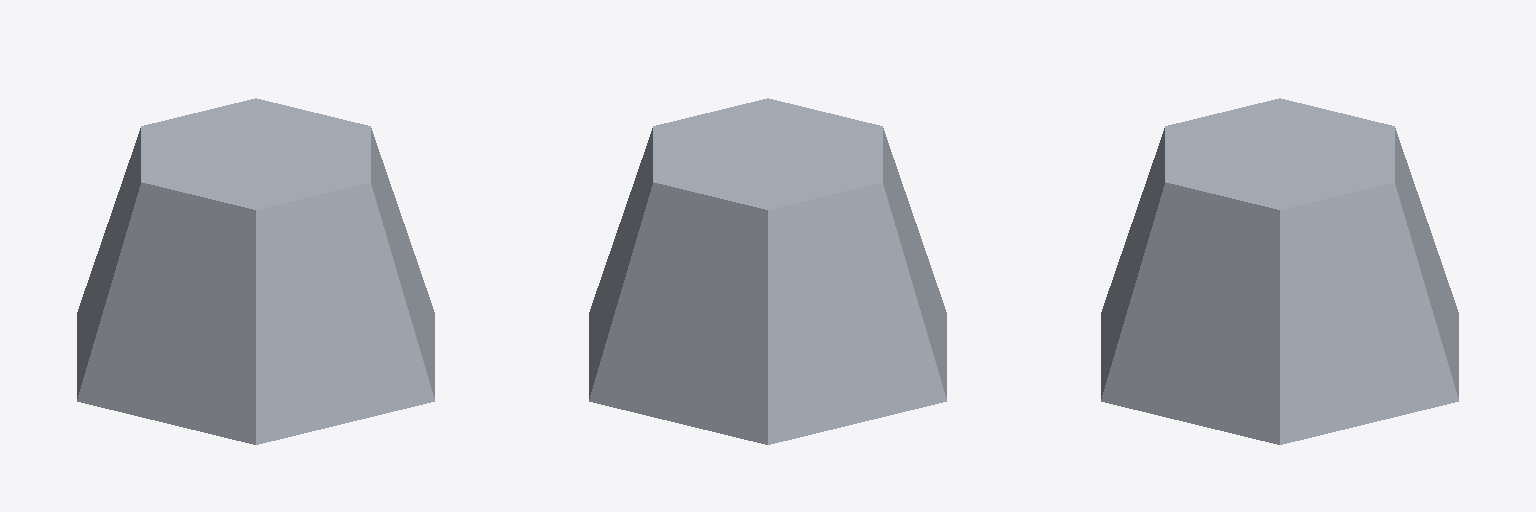
3 renders of one model, left to right at view 1: azimuth 30°, elevation 25°; view 2: azimuth 150°, elevation 25°; view 3: azimuth 270°, elevation 25°, orthographic.
Visible parts, largest first — view 1: Mesh1 Rock_1 Model; view 2: Mesh1 Rock_1 Model; view 3: Mesh1 Rock_1 Model.
Part boxes in pixels (bbox=[...]): Mesh1 Rock_1 Model: bbox=[77, 98, 434, 444]; Mesh1 Rock_1 Model: bbox=[589, 98, 946, 444]; Mesh1 Rock_1 Model: bbox=[1101, 98, 1458, 444].
Bounding box in the file's own units: 1.18 × 0.64 × 1.02.
Materials: 1 (1 with a texture image).